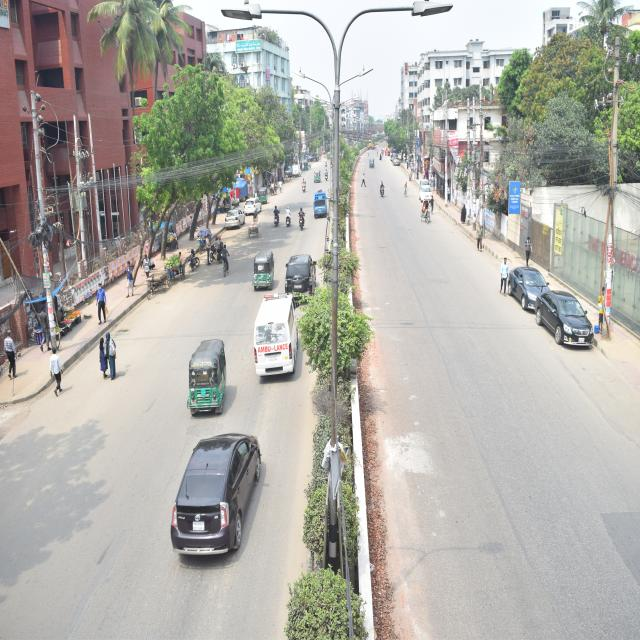car: (167, 426, 264, 562), (530, 286, 598, 355), (505, 264, 553, 310), (284, 250, 324, 305), (222, 205, 245, 231), (417, 184, 437, 209), (241, 195, 262, 218)
microbus: (252, 289, 302, 382)
motorbike: (270, 205, 282, 231), (377, 177, 387, 203), (297, 207, 306, 235), (284, 207, 293, 228)
pickup-van: (308, 186, 332, 220)
